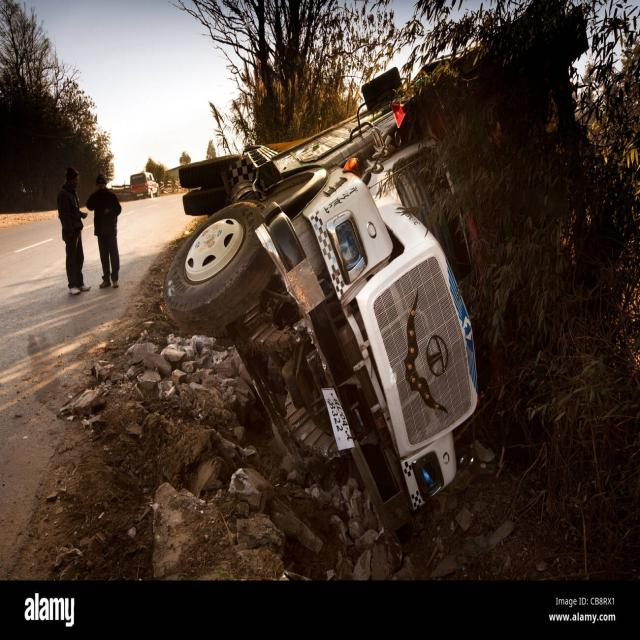accident: (164, 71, 478, 531)
